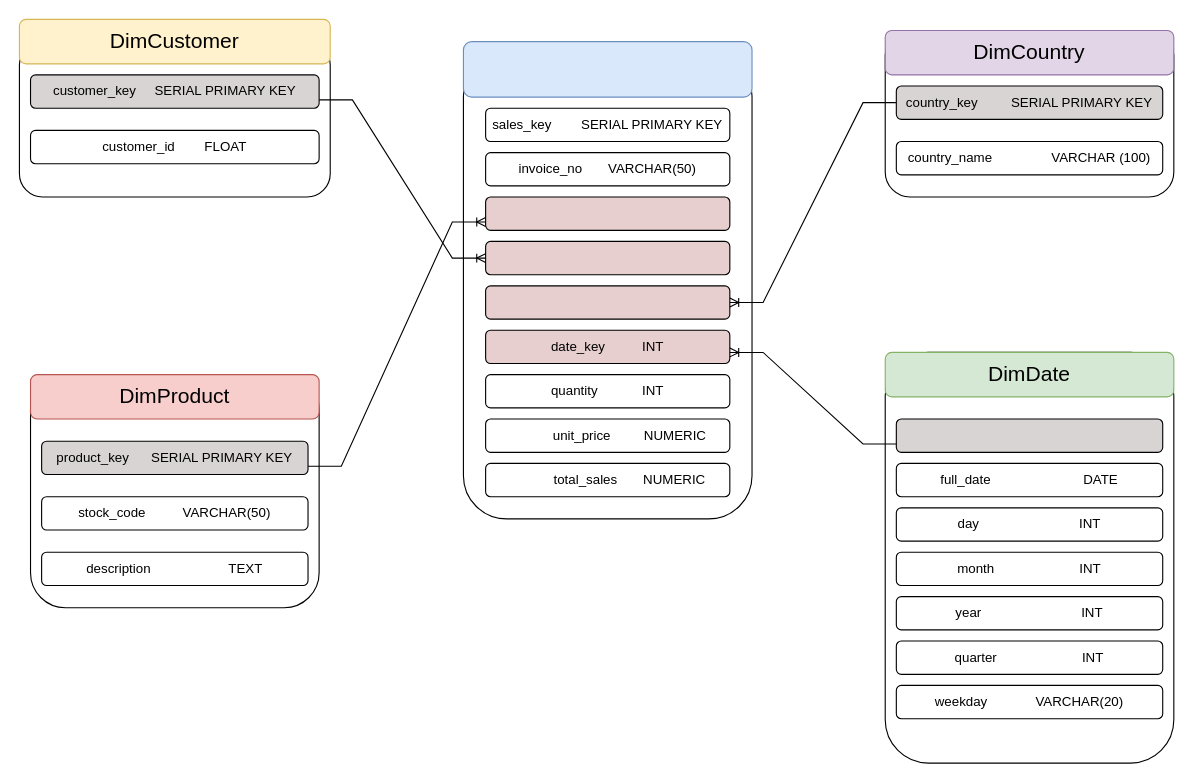
Some shapes in this 1193 by 783 pixel diagram are drawn without their labels. Each missing label, with the centre of its shape:
"country_key INT" belongs at point 607,302.
"customer_key INT" belongs at point 607,257.
"date_key SERIAL PRIMARY KEY" belongs at point 1029,435.
"FactSales" belongs at point 607,69.
"product_key INT" belongs at point 607,213.
